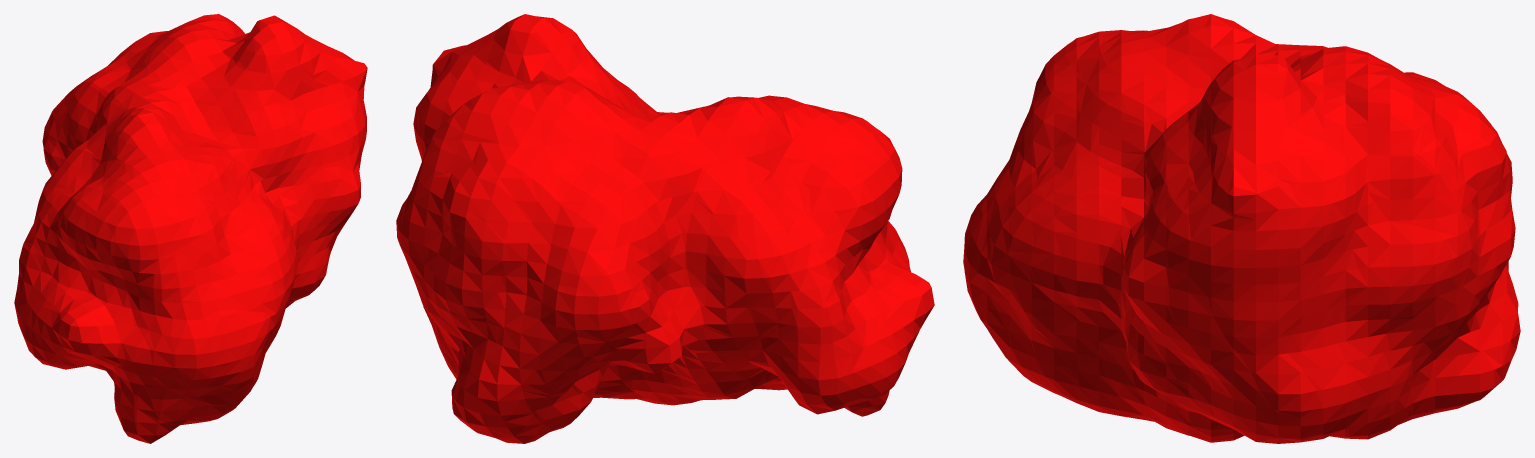
The model's file is otsA_coarse.dae.
The picture shows the model from 3 angles, left to right: view 1: azimuth 30°, elevation 25°; view 2: azimuth 150°, elevation 25°; view 3: azimuth 270°, elevation 25°; orthographic projection. The views are drawn at different scales.
Visible parts, largest first — view 1: otsA; view 2: otsA; view 3: otsA.
Boxes of the visible parts, x1,y1,x2,y2 form: otsA: (14, 14, 367, 443); otsA: (396, 14, 934, 443); otsA: (963, 14, 1520, 443).
Size of the model in its own units: 65.88 by 57.56 by 65.95.
